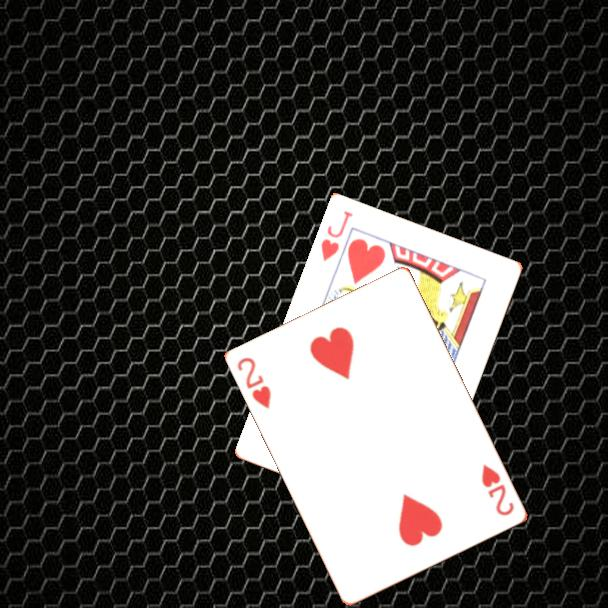h02: (478, 461, 518, 519), (234, 354, 274, 412)
h11: (318, 208, 356, 265)
